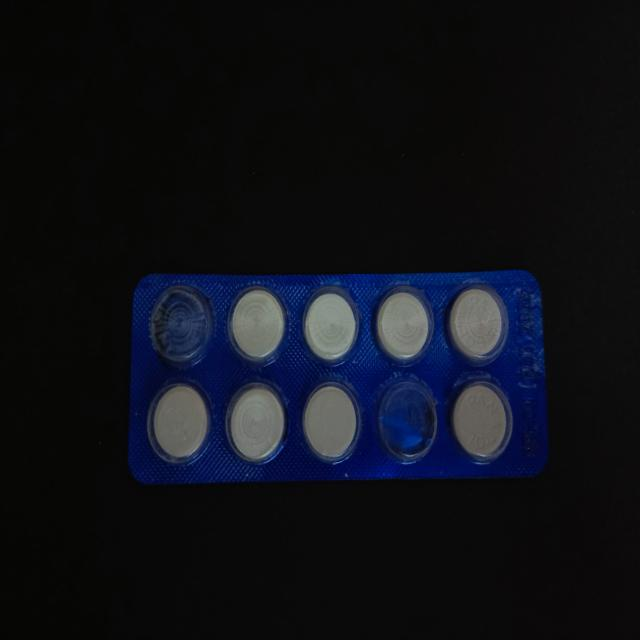defect: (145, 276, 212, 362), (378, 380, 438, 464)
